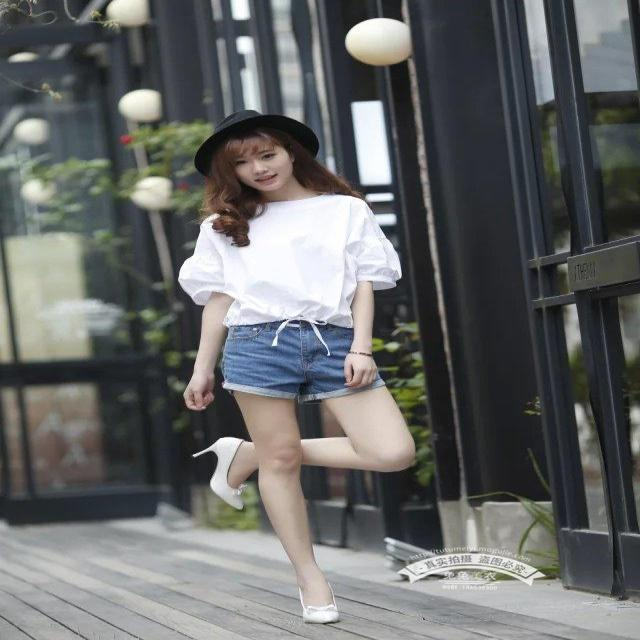short-sleeve-top: (180, 190, 428, 322)
shorts: (220, 335, 398, 409)
